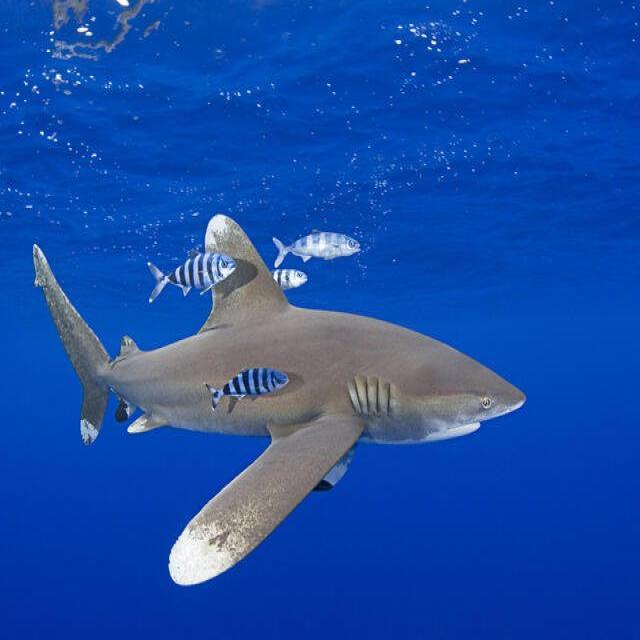shark: (33, 215, 524, 583)
